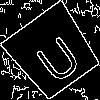U: (28, 27, 85, 86)
